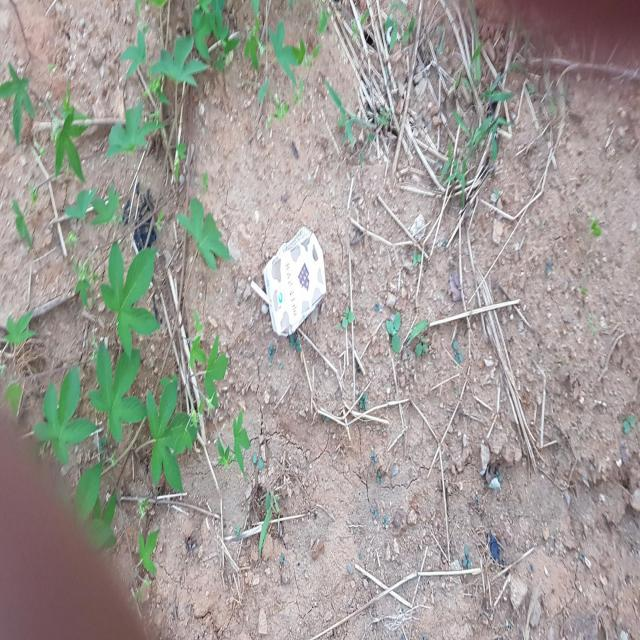paperpack: (264, 226, 326, 335)
